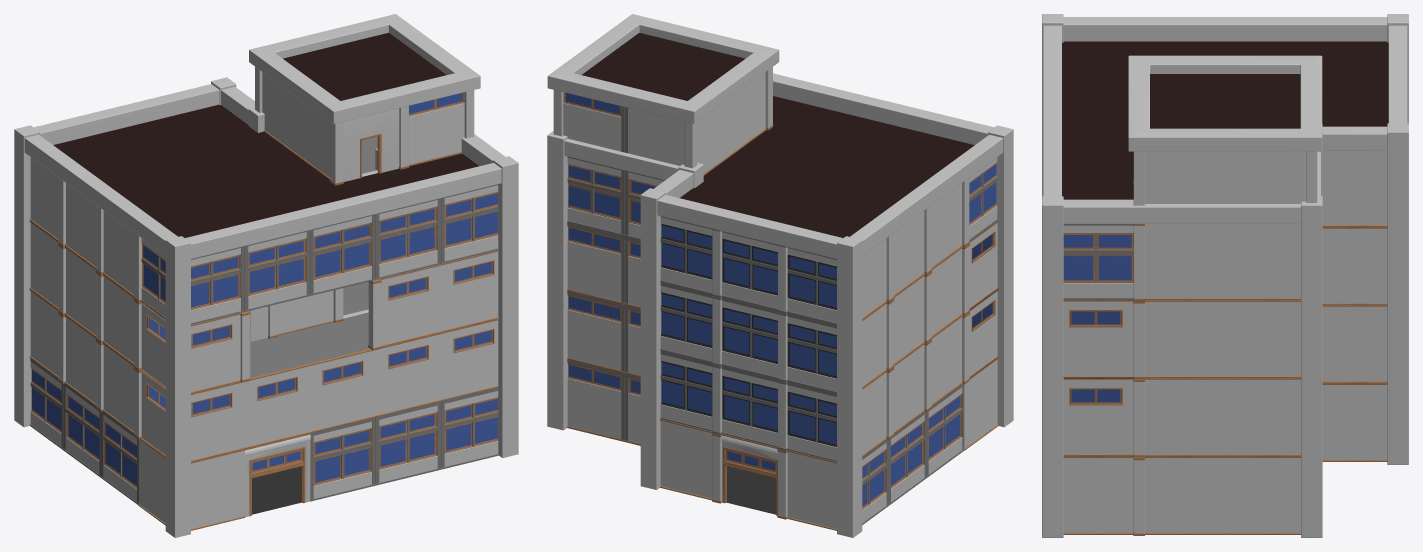
Rendered from SM_building_01.fbx.
3 views of the same model, side by side, from view 1: azimuth 30°, elevation 25°; view 2: azimuth 150°, elevation 25°; view 3: azimuth 270°, elevation 25° (orthographic). The views are drawn at different scales.
Visible parts, largest first — view 1: Building01; view 2: Building01; view 3: Building01.
Boxes of the visible parts, x1,y1,x2,y2 form: Building01: (14, 14, 518, 537); Building01: (547, 14, 1013, 537); Building01: (1042, 14, 1408, 537).
Size of the model in its own units: 827 by 806 by 669.
